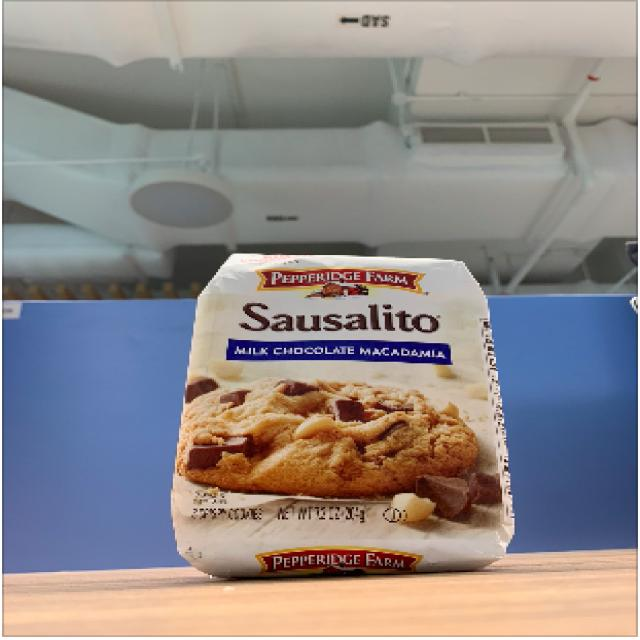object_name: (198, 264, 497, 569)
